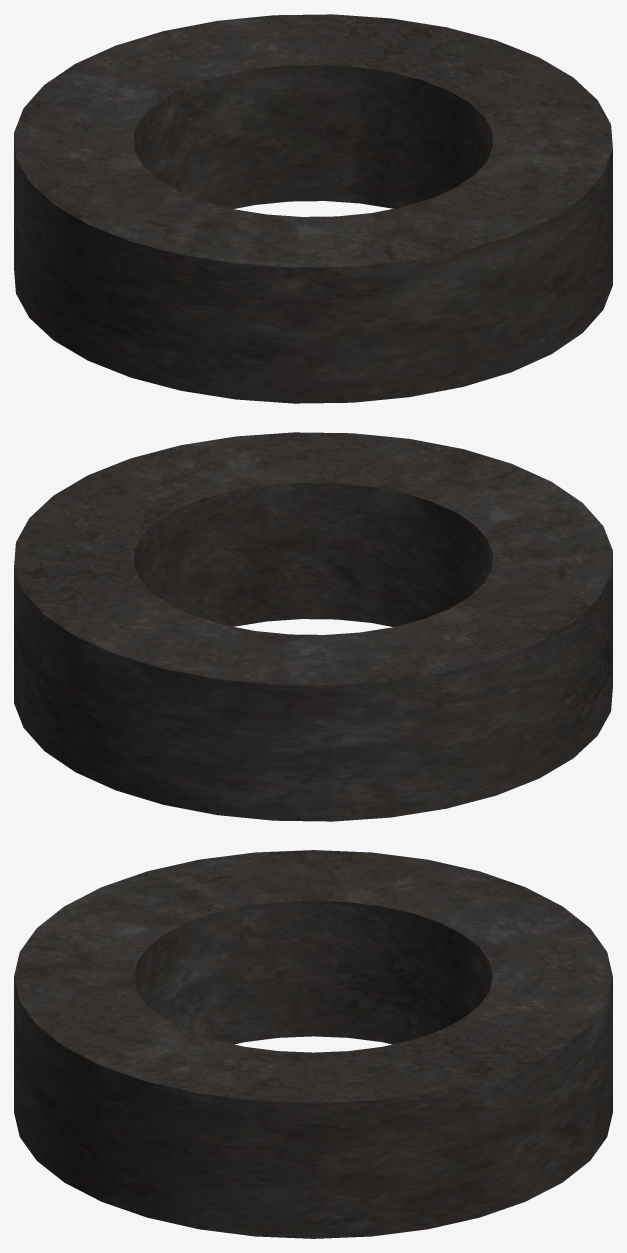
File: Cannon 25 Percent.fbx
3 views of the same model, one above another, from view 1: azimuth 30°, elevation 25°; view 2: azimuth 150°, elevation 25°; view 3: azimuth 270°, elevation 25° (orthographic).
Parts seen in each view (by area): view 1: Cannon; view 2: Cannon; view 3: Cannon.
Boxes of the visible parts, x1,y1,x2,y2 form: Cannon: (14, 14, 612, 403); Cannon: (14, 432, 612, 821); Cannon: (14, 850, 612, 1238).
Size of the model in its own units: 200 by 50 by 200.
